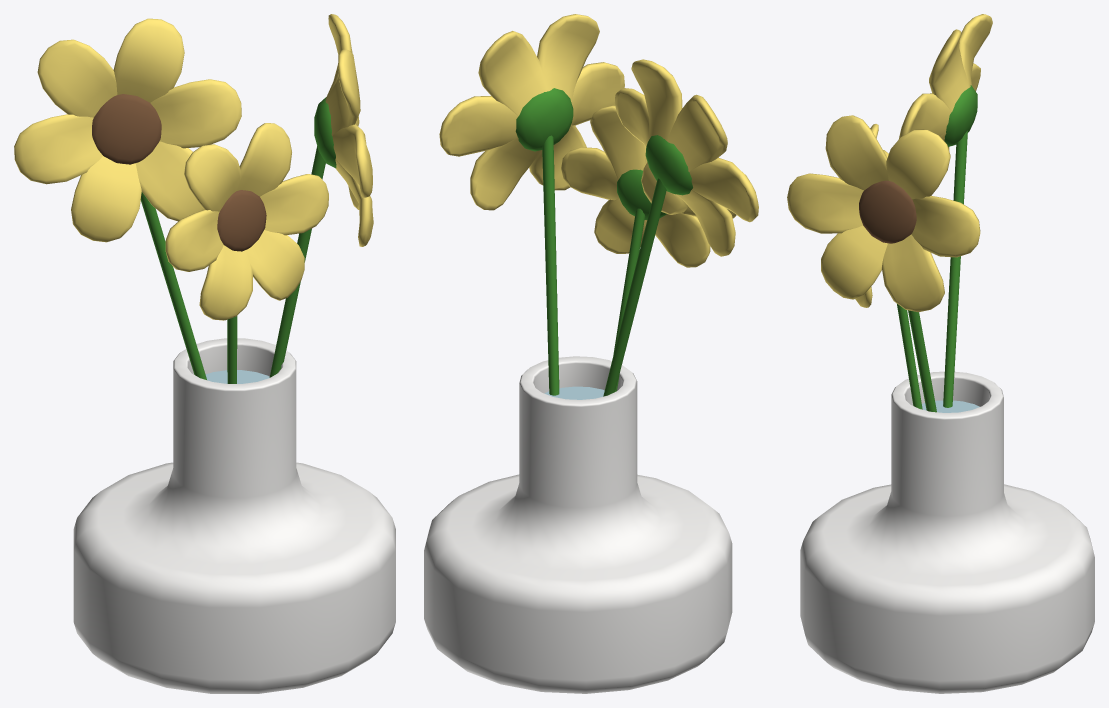
File: Flower_6.glb
3 views of the same model, side by side, from view 1: azimuth 30°, elevation 25°; view 2: azimuth 150°, elevation 25°; view 3: azimuth 270°, elevation 25° (orthographic). The views are drawn at different scales.
Visible parts, largest first — view 1: Vase_with_Flowers_3; view 2: Vase_with_Flowers_3; view 3: Vase_with_Flowers_3.
Part boxes in pixels (bbox=[...]): Vase_with_Flowers_3: bbox=[14, 14, 395, 693]; Vase_with_Flowers_3: bbox=[424, 14, 758, 693]; Vase_with_Flowers_3: bbox=[787, 14, 1094, 693].
Size of the model in its own units: 0.3696 by 0.6446 by 0.315.
1 material, 1 textured.
